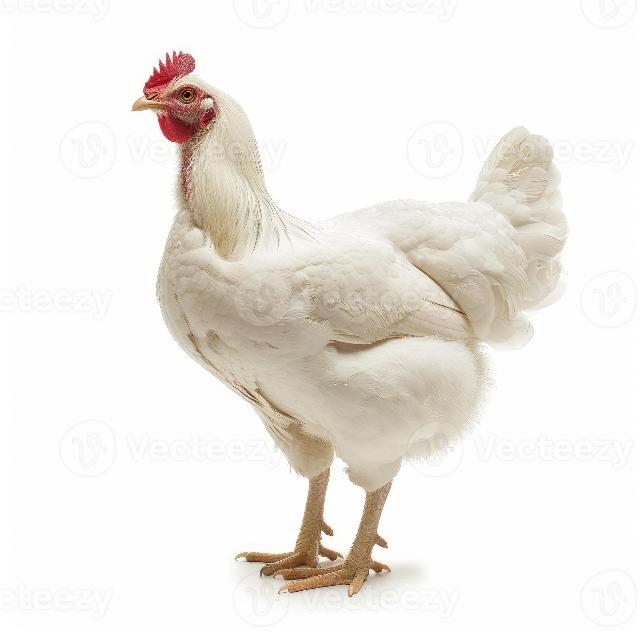Chicken: (136, 46, 569, 600)
